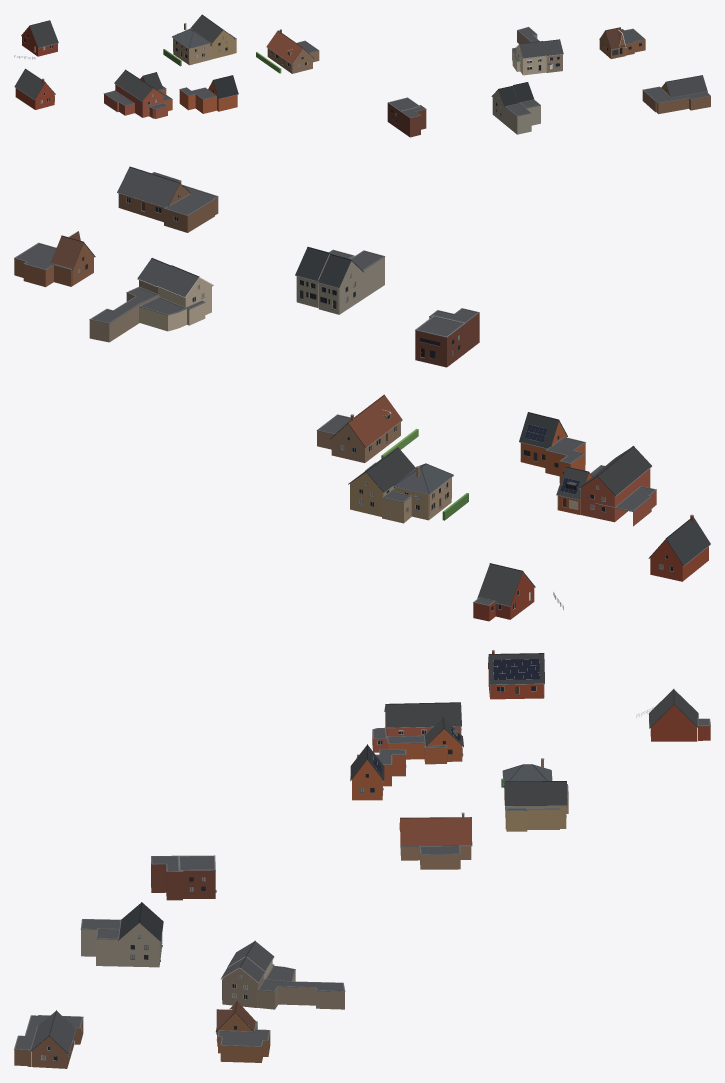
Rendered from molenhoek_end2.glb.
3 views of the same model, one above another, from view 1: azimuth 30°, elevation 25°; view 2: azimuth 150°, elevation 25°; view 3: azimuth 270°, elevation 25° (orthographic). The views are drawn at different scales.
Parts seen in each view (by area): view 1: mh_brick, mh_roof, mh_stone, mh_detail_w, mh_glass, mh_detail_e, mh_detail_m, mh_foliage; view 2: mh_brick, mh_roof, mh_stone, mh_glass, mh_detail_w, mh_detail_m, mh_detail_e; view 3: mh_brick, mh_roof, mh_stone, mh_glass, mh_detail_w, mh_detail_e.
Boxes of the visible parts, <box> form: mh_brick: <box>15,24,710,137</box>; mh_roof: <box>14,15,707,106</box>; mh_stone: <box>24,23,710,118</box>; mh_detail_w: <box>15,20,238,111</box>; mh_glass: <box>24,34,666,122</box>; mh_detail_e: <box>513,27,702,96</box>; mh_detail_m: <box>190,14,518,123</box>; mh_foliage: <box>163,49,281,73</box>; mh_brick: <box>14,181,708,621</box>; mh_roof: <box>50,167,710,605</box>; mh_stone: <box>14,172,693,610</box>; mh_glass: <box>78,195,673,610</box>; mh_detail_w: <box>393,412,710,611</box>; mh_detail_m: <box>309,253,460,507</box>; mh_detail_e: <box>61,166,329,302</box>; mh_brick: <box>14,651,710,1068</box>; mh_roof: <box>30,654,698,1053</box>; mh_stone: <box>14,650,710,1060</box>; mh_glass: <box>41,659,539,1060</box>; mh_detail_w: <box>350,653,698,795</box>; mh_detail_e: <box>29,911,274,1064</box>.
Bounding box in the file's own units: 223 × 16.44 × 173.
